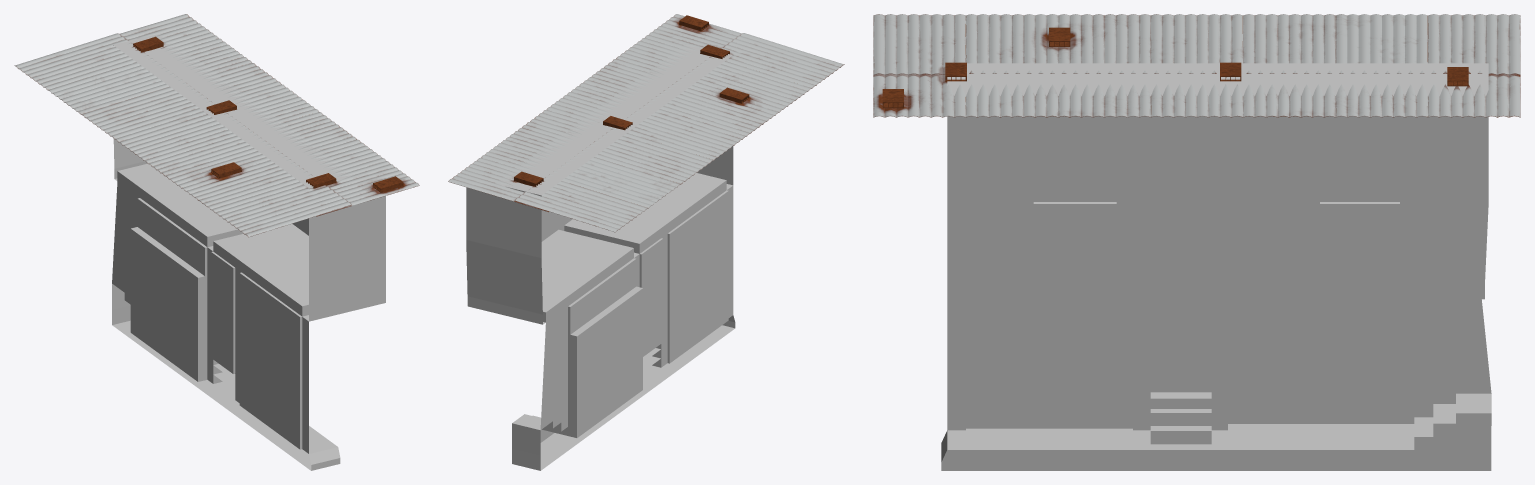
File: casaplano03.fbx
3 views of the same model, side by side, from view 1: azimuth 30°, elevation 25°; view 2: azimuth 150°, elevation 25°; view 3: azimuth 270°, elevation 25° (orthographic). The views are drawn at different scales.
Visible parts, largest first — view 1: Casaplano03, Techo 03; view 2: Casaplano03, Techo 03; view 3: Casaplano03, Techo 03.
Part boxes in pixels (left/top/right/bottom): Casaplano03: left=112, top=33, right=385, bottom=470; Techo 03: left=14, top=14, right=419, bottom=237; Casaplano03: left=466, top=45, right=735, bottom=470; Techo 03: left=448, top=14, right=844, bottom=232; Casaplano03: left=941, top=63, right=1491, bottom=470; Techo 03: left=873, top=14, right=1520, bottom=117.
Size of the model in its own units: 384 by 614 by 908.
